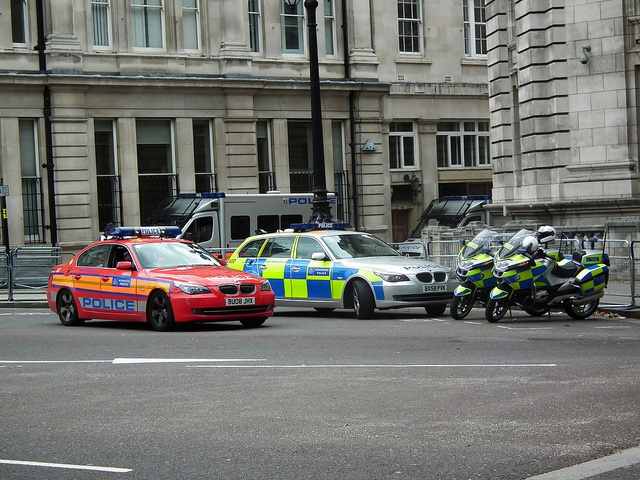non-vehicle: (486, 228, 610, 323), (448, 227, 496, 318)
